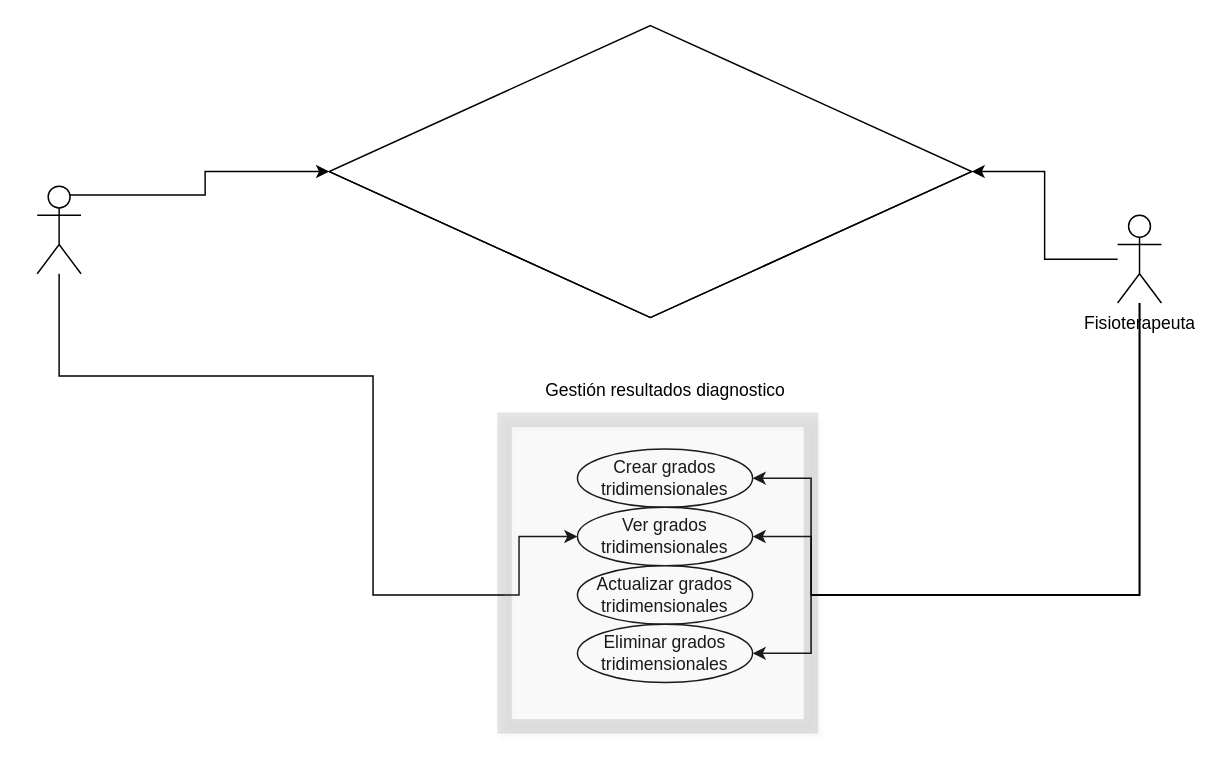
The diagram is 1221 pixels wide and 769 high, and some of its shapes have lost their labels. The shapes that lost their labels are listed below. From the top down, each one's centre as x and y in pixels, then its label:
At pixel 650 171: "¿Esta mucho mejor alejada de mi? ¿Es mejor que me aleje para siempre?".
At pixel 58 229: "Paciente".
